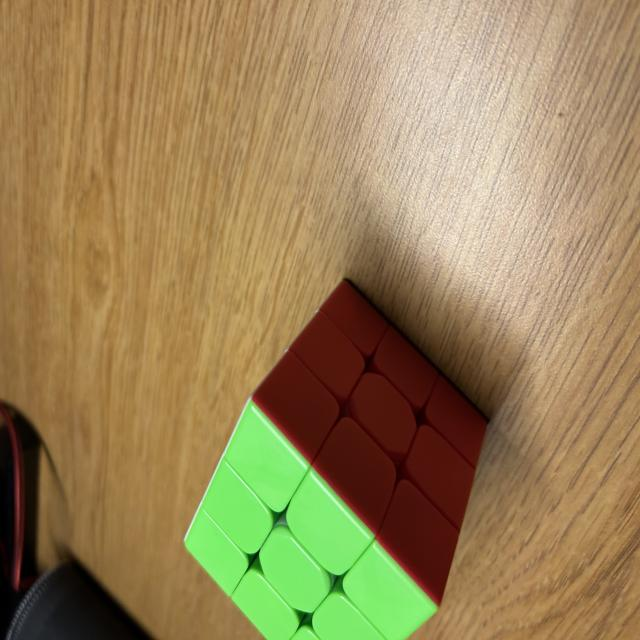Rubiks Cube: (182, 277, 489, 640)
